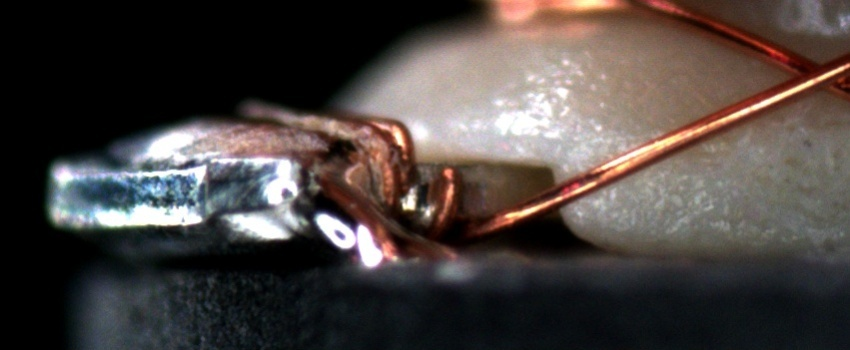CL: (767, 42, 849, 103)
DL: (546, 122, 749, 157)
TE: (351, 108, 465, 228)
